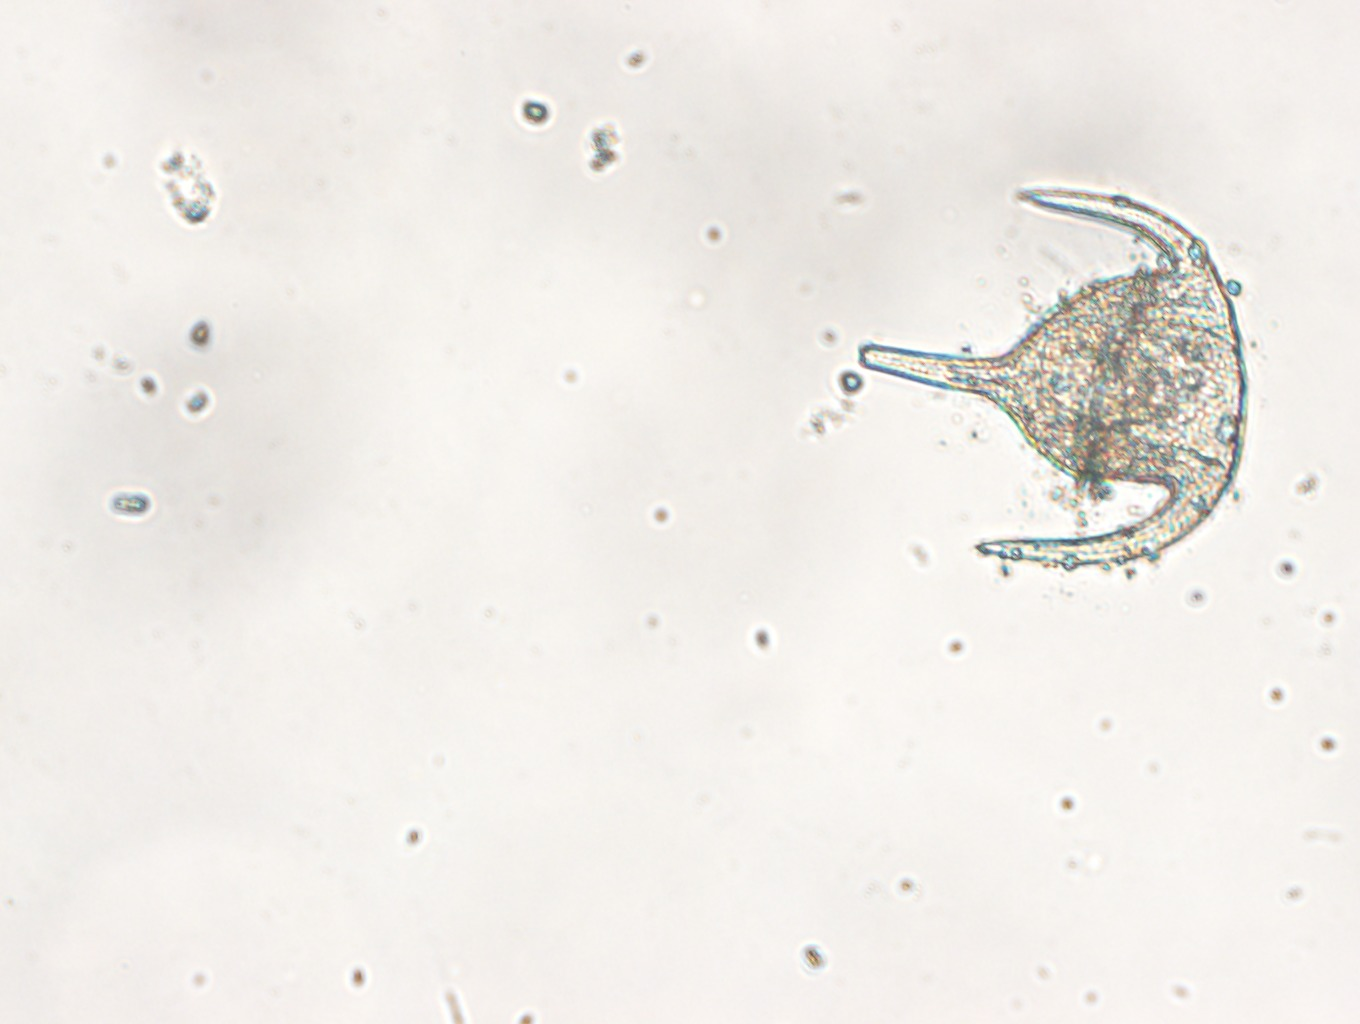ceratium tripos: (851, 175, 1252, 574)
